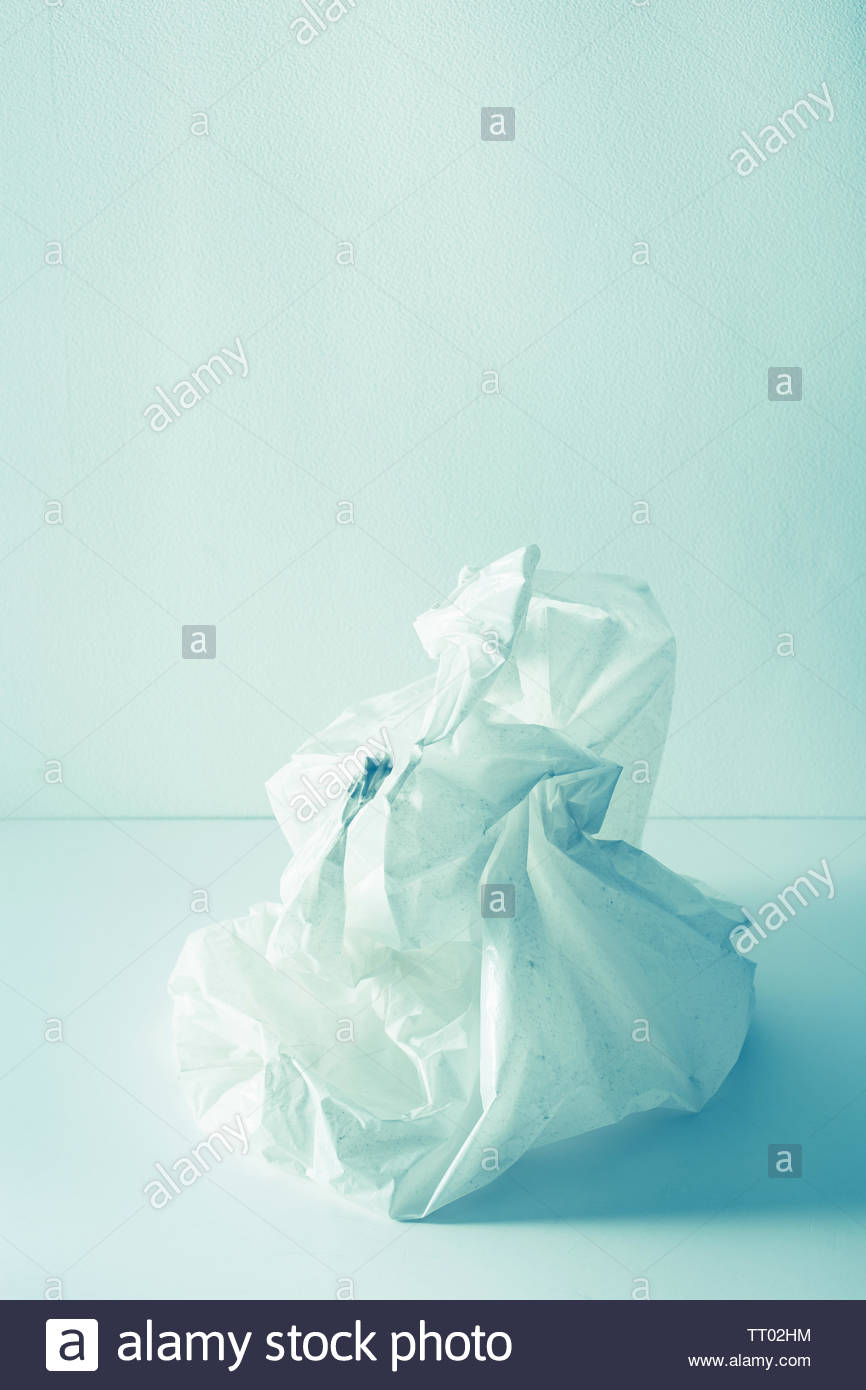plastic_bag: (163, 530, 779, 1233)
